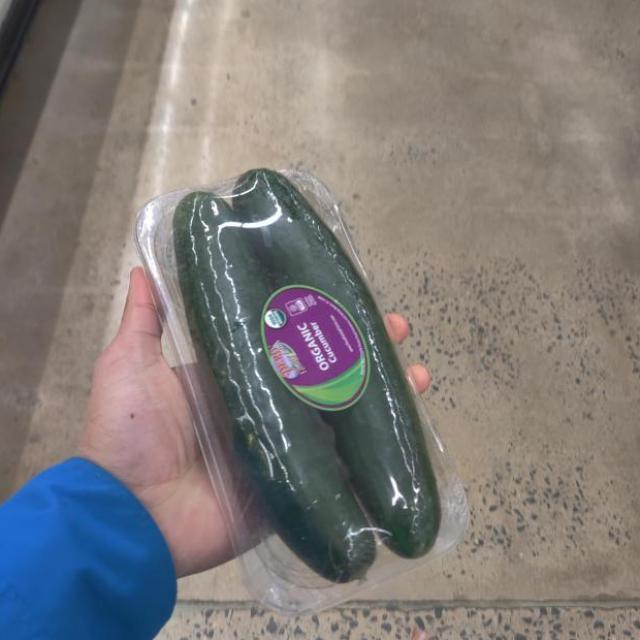Cucumber: (146, 157, 472, 613)
